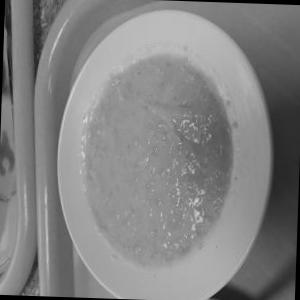porridge: (45, 44, 256, 264)
